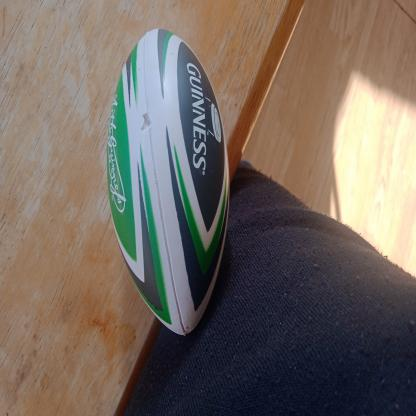Rugby: (106, 25, 232, 340)
